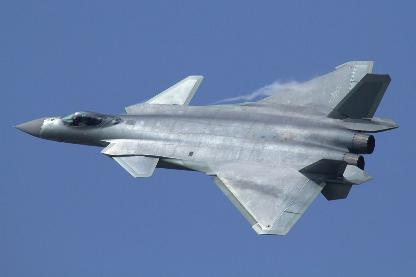F4: (12, 60, 398, 235)
